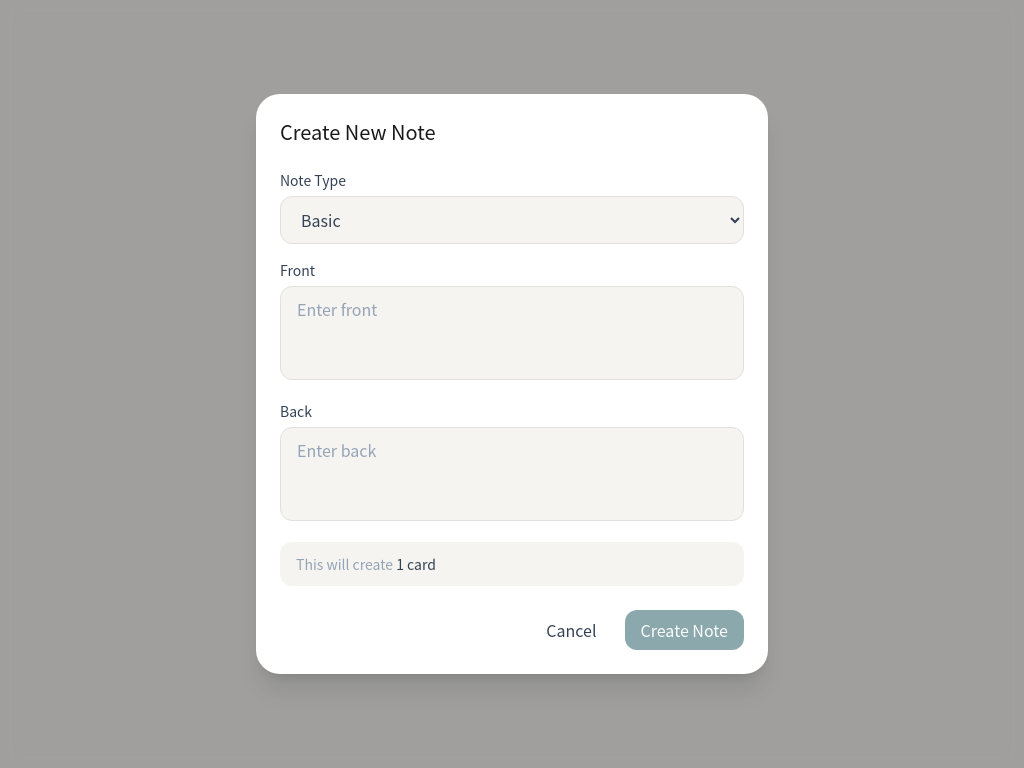
it: CreateNoteModal › displays a generic error when the local write fails
This screenshot has width=1024, height=768.
Type "Question" into the text box labelled "Front" at (512, 333), box [280,286,744,380]
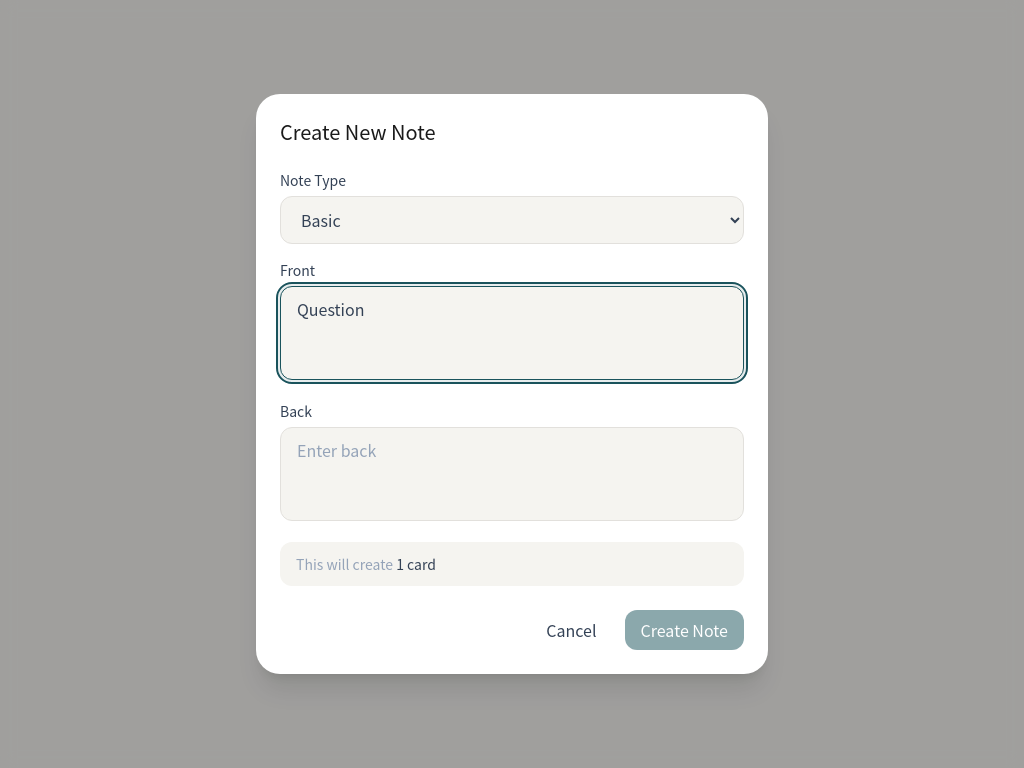
Type "Answer" into the text box labelled "Back" at (512, 474), box [280,427,744,521]
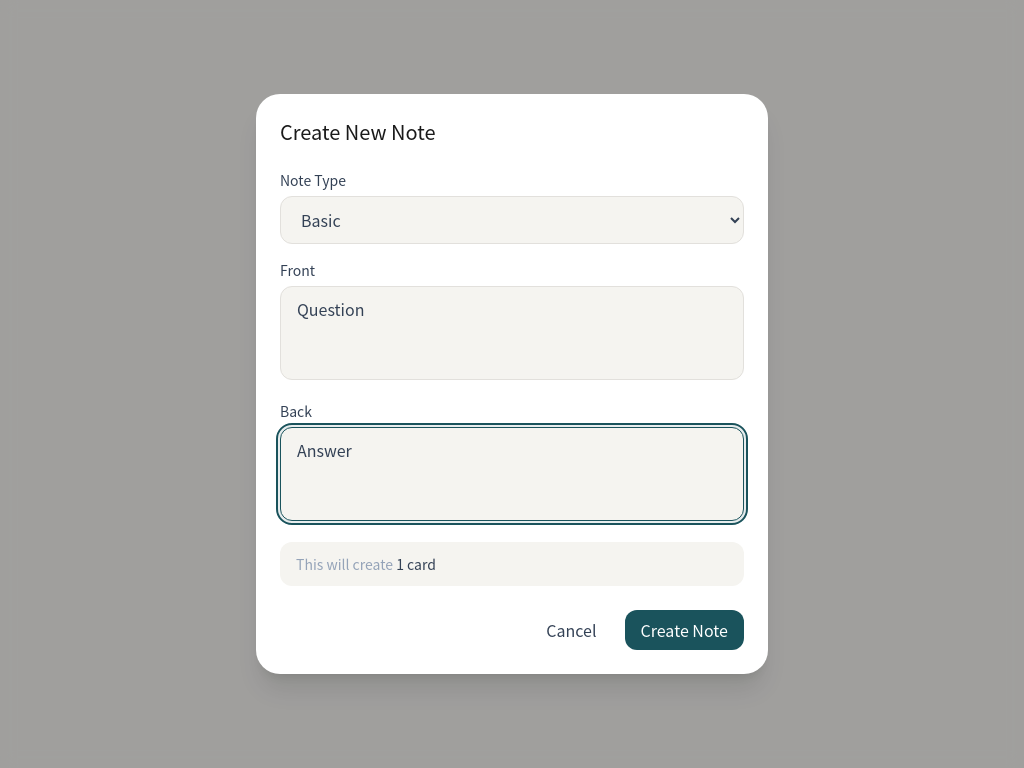
Click the button "Create Note" at (684, 630), box [624,610,744,650]
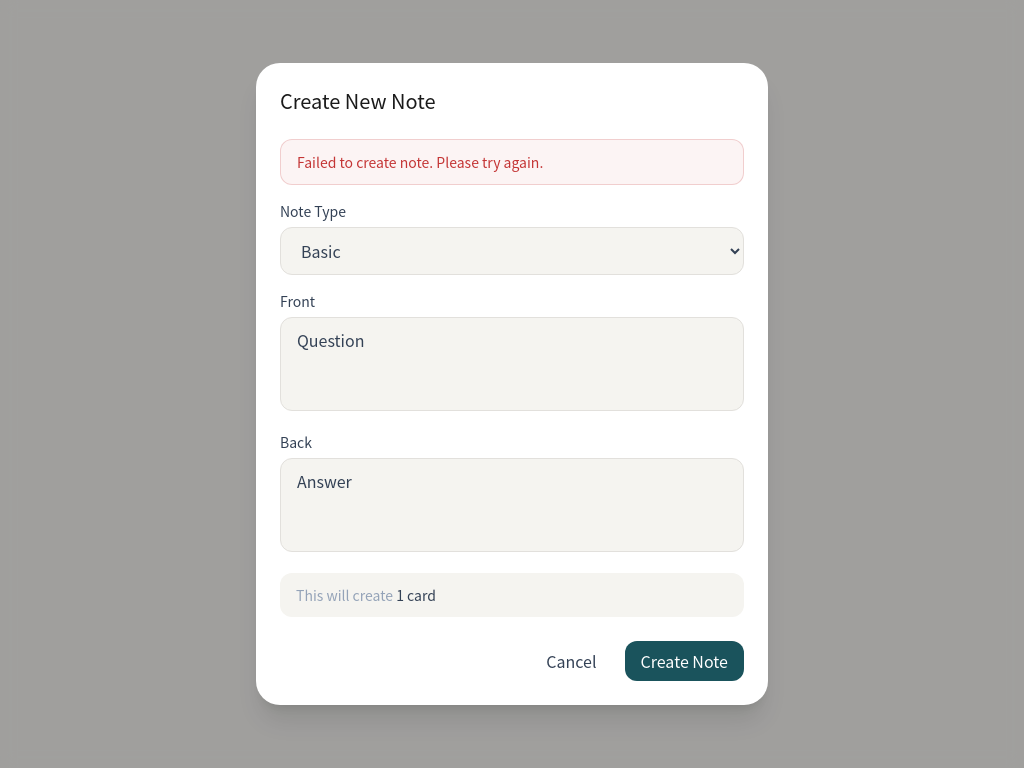
Now the message reads "Failed to create note. Please try again.", box [297,152,543,172]
